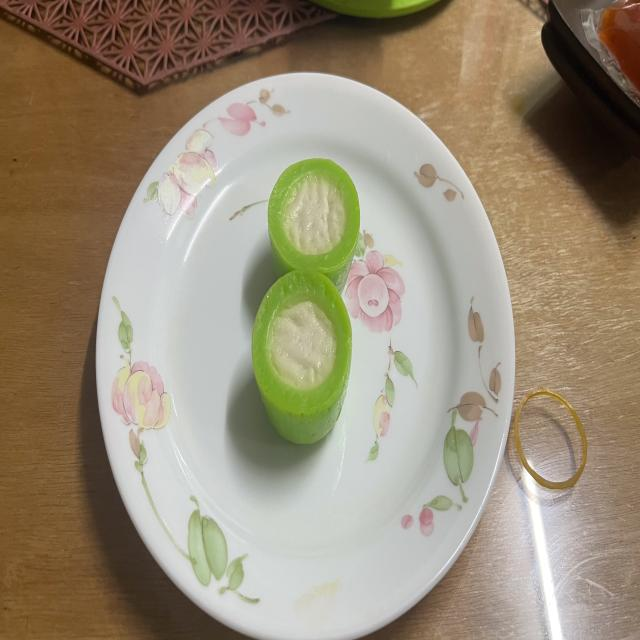nona-manis: (252, 271, 351, 444), (268, 158, 360, 291)
